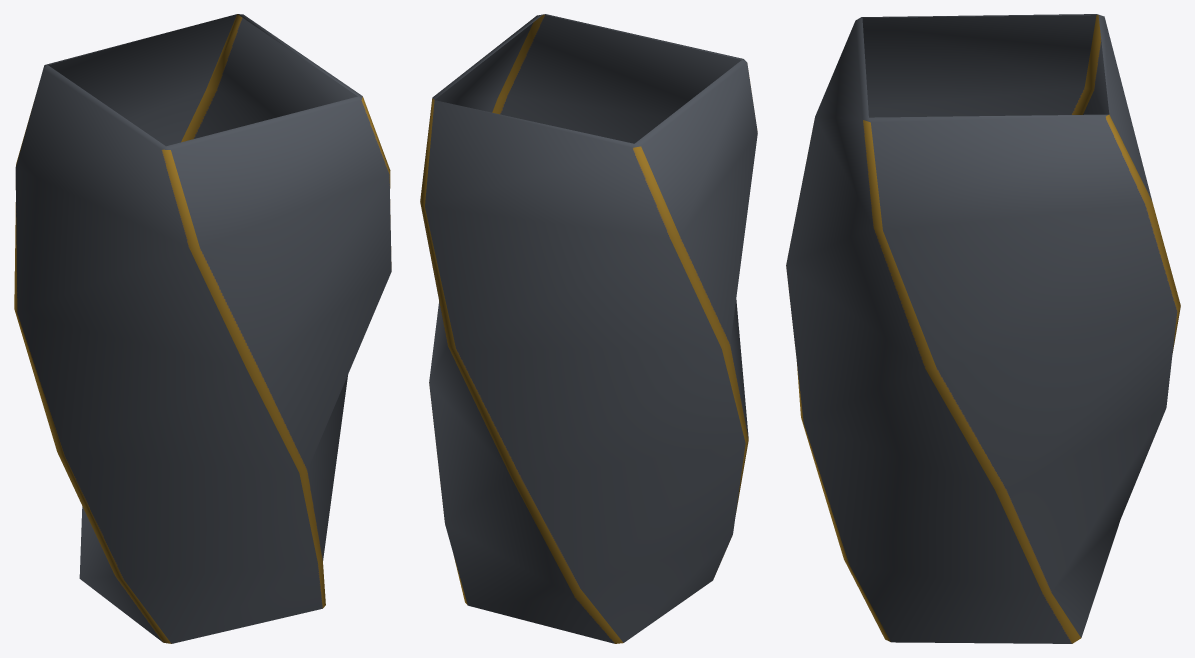
Rendered from zhibuzhuan.fbx.
3 renders of one model, left to right at view 1: azimuth 30°, elevation 25°; view 2: azimuth 150°, elevation 25°; view 3: azimuth 270°, elevation 25°, orthographic. The views are drawn at different scales.
Parts seen in each view (by area): view 1: 立方体.016; view 2: 立方体.016; view 3: 立方体.016.
Boxes of the visible parts, <box> form: 立方体.016: <box>14,14,391,643</box>; 立方体.016: <box>420,14,757,643</box>; 立方体.016: <box>786,14,1180,643</box>.
Bounding box in the file's own units: 138 × 206 × 138.
1 material, 1 textured.
